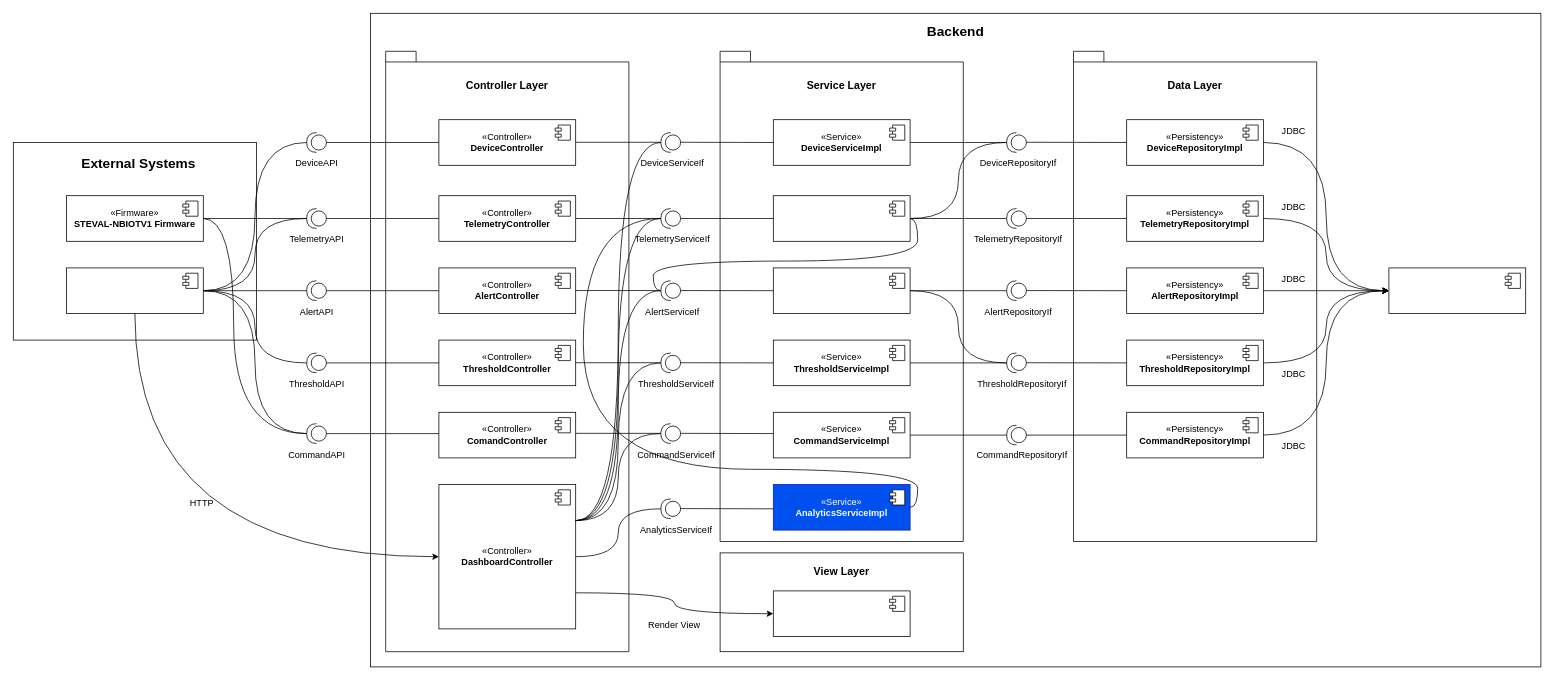
Image size: 1554x680. Some labels were removed from this diagram. The centre of each missing label's shape, as x and y in pixels:
«Client» Web Browser Client: point 134,290
«Database» SQLite DB: point 1457,290
«Service» AlertServiceImpl: point 841,290
«Service» TelemetryServiceImpl: point 841,218
«View» Thymeleaf Views: point 841,613
